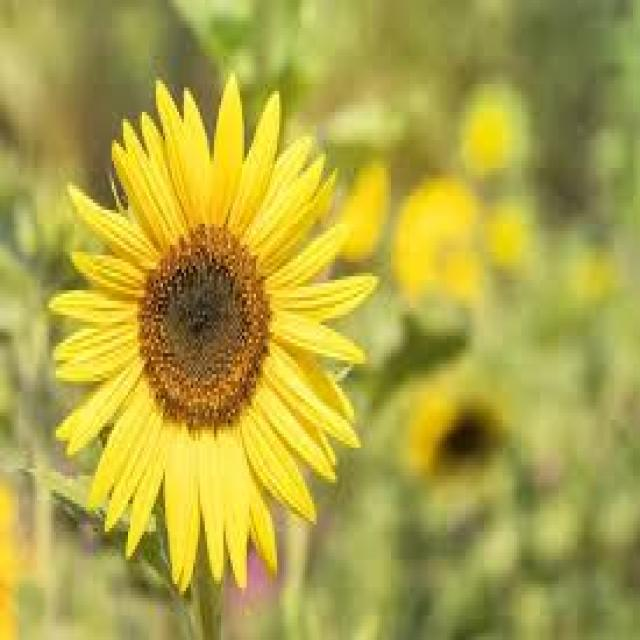sunflower: (32, 63, 382, 622), (393, 353, 542, 497), (386, 182, 498, 343), (449, 73, 554, 217)
